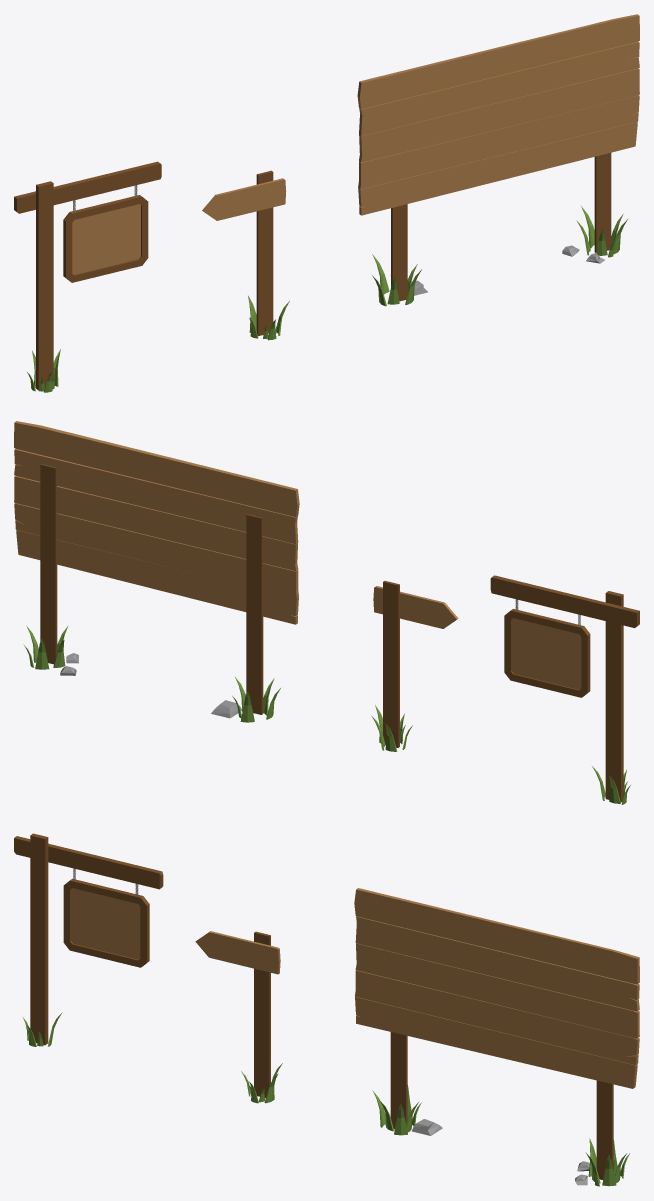
File: SignSet.fbx
3 views of the same model, one above another, from view 1: azimuth 30°, elevation 25°; view 2: azimuth 150°, elevation 25°; view 3: azimuth 330°, elevation 25° (orthographic).
Visible parts, largest first — view 1: BuyukTabela, Tabela, Tabela.001, Odun, 2-IcTabela, 3-Çimen, 2-Çimen; view 2: BuyukTabela, Tabela.001, Tabela, Odun, 2-IcTabela, 3-Çimen, Taş, 2-Çimen; view 3: BuyukTabela, Tabela.001, Tabela, Odun, 2-IcTabela, 3-Çimen, Taş.
Part boxes in pixels (x1,y1,x2,y2): BuyukTabela: (357,14,639,301); Tabela: (63,195,148,282); Tabela.001: (14,161,161,390); Odun: (256,170,273,336); 2-IcTabela: (202,178,286,220); 3-Çimen: (372,206,627,306); 2-Çimen: (248,295,289,340); BuyukTabela: (14,421,299,714); Tabela.001: (490,575,639,802); Tabela: (504,609,590,697); Odun: (383,581,399,747); 2-IcTabela: (373,586,458,628); 3-Çimen: (23,626,280,722); Taş: (60,653,241,718); 2-Çimen: (371,705,412,751); BuyukTabela: (354,888,639,1179); Tabela.001: (14,833,163,1045); Tabela: (63,878,149,967); Odun: (254,931,270,1097); 2-IcTabela: (195,931,280,974); 3-Çimen: (372,1085,629,1186); Taş: (412,1119,589,1185).
Bounding box in the file's own units: 6.62 × 2.35 × 0.5501.
